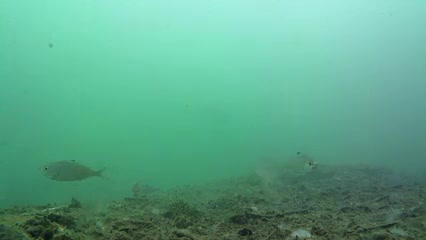smallfish: (37, 153, 104, 185)
